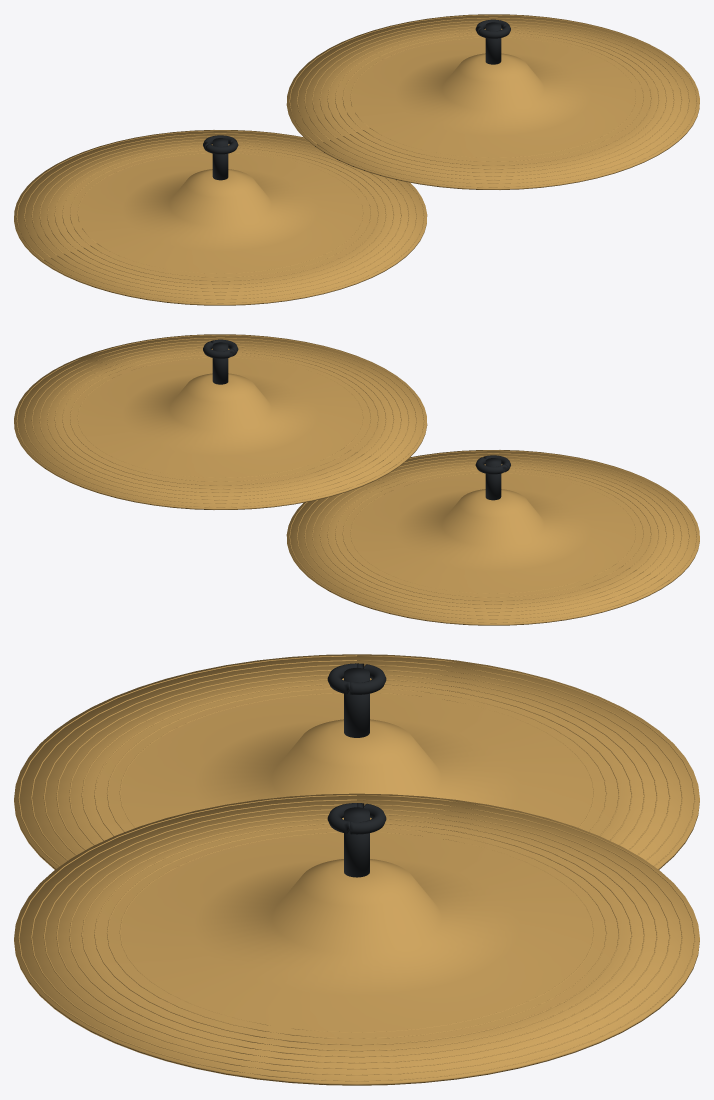
Rendered from cymbales.glb.
3 renders of one model, top to bottom at view 1: azimuth 30°, elevation 25°; view 2: azimuth 150°, elevation 25°; view 3: azimuth 270°, elevation 25°, orthographic. The views are drawn at different scales.
Visible parts, largest first — view 1: cymbales — Bronze, cymbales — Caoutchouc; view 2: cymbales — Bronze, cymbales — Caoutchouc; view 3: cymbales — Bronze, cymbales — Caoutchouc.
Boxes of the visible parts, x1,y1,x2,y2 form: cymbales — Bronze: (14, 14, 699, 305); cymbales — Caoutchouc: (203, 19, 510, 180); cymbales — Bronze: (14, 334, 699, 625); cymbales — Caoutchouc: (203, 339, 510, 500); cymbales — Bronze: (14, 654, 699, 1085); cymbales — Caoutchouc: (327, 663, 386, 877).
Bounding box in the file's own units: 0.74 × 0.1415 × 0.42.
